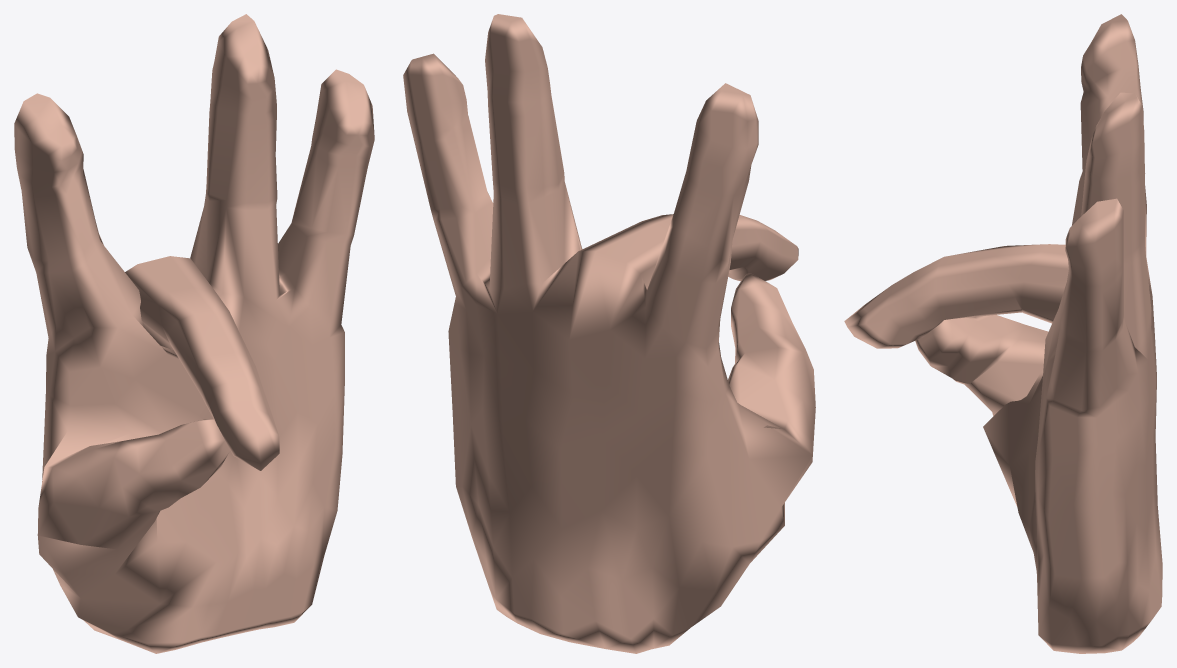
Rendered from MAO_DOENTE.obj.
3 views of the same model, side by side, from view 1: azimuth 30°, elevation 25°; view 2: azimuth 150°, elevation 25°; view 3: azimuth 270°, elevation 25° (orthographic). The views are drawn at different scales.
Visible parts, largest first — view 1: mao_dir polySurface1; view 2: mao_dir polySurface1; view 3: mao_dir polySurface1.
Boxes of the visible parts, box(x1,y1,x2,y2) form: mao_dir polySurface1: box(14, 14, 374, 653); mao_dir polySurface1: box(403, 14, 815, 653); mao_dir polySurface1: box(844, 14, 1162, 653).
Bounding box in the file's own units: 153 × 234 × 122.
